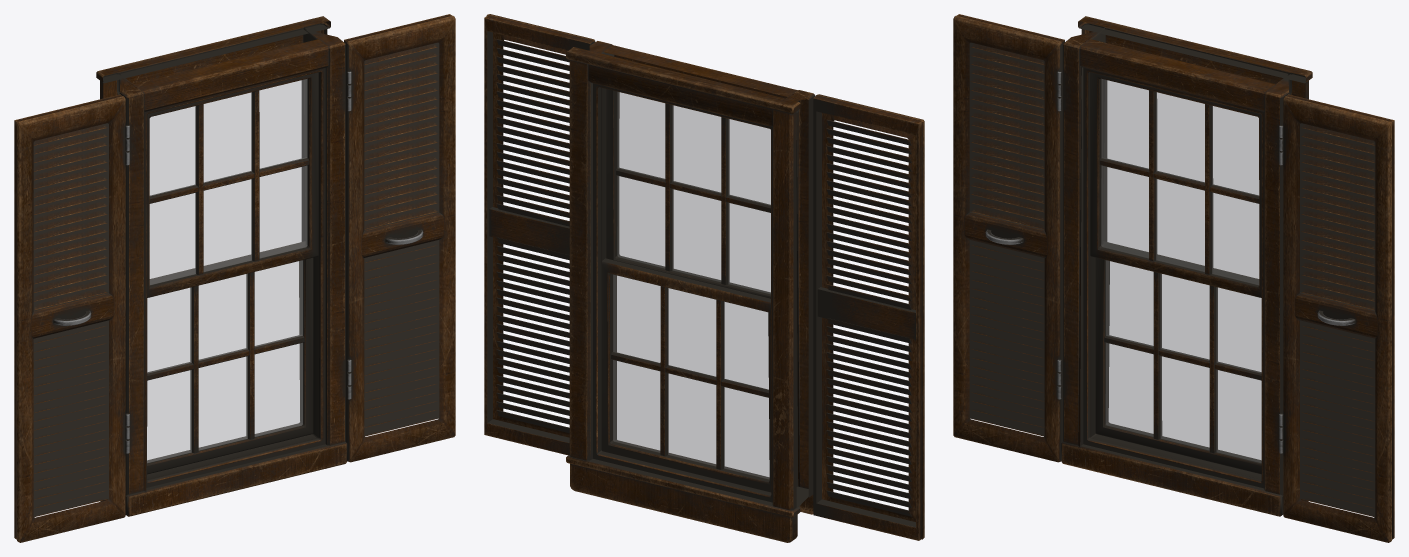
File: window__wodden_4_mb.glb
3 views of the same model, side by side, from view 1: azimuth 30°, elevation 25°; view 2: azimuth 150°, elevation 25°; view 3: azimuth 330°, elevation 25° (orthographic).
Parts seen in each view (by area): view 1: Null_1, Glass, Null, Null_1_2, House_07_1_LOD0_2_1, House_07_1_LOD0_0_2, House_07_1_LOD0_6_2, House_07_1_LOD0_12_2, House_07_1_LOD0_7_1, House_07_1_LOD0_8_1, House_07_1_LOD0_13_1, House_07_1_LOD0_14_1 (+70 smaller); view 2: Null_1, Glass, Null, Null_1_2, House_07_1_LOD0_0, House_07_1_LOD0_2, House_07_1_LOD0_5, House_07_1_LOD0_6, House_07_1_LOD0_9, House_07_1_LOD0_10_2, House_07_1_LOD0_13_2, House_07_1_LOD0_15_2 (+31 smaller); view 3: Null_1, Glass, Null_1_2, Null, House_07_1_LOD0_0_1_2, House_07_1_LOD0_6_1_2, House_07_1_LOD0_12_1_2, House_07_1_LOD0_2, House_07_1_LOD0_2_1, House_07_1_LOD0_10_1, House_07_1_LOD0_16_1, House_07_1_LOD0_7 (+70 smaller).
Part boxes in pixels (x1,y1,x2,y2): Null_1: (96, 16, 347, 516); Glass: (147, 79, 307, 462); Null: (14, 94, 125, 542); Null_1_2: (344, 14, 455, 462); House_07_1_LOD0_2_1: (364, 392, 439, 419); House_07_1_LOD0_0_2: (33, 283, 108, 310); House_07_1_LOD0_6_2: (33, 231, 108, 258); House_07_1_LOD0_12_2: (33, 179, 108, 206); House_07_1_LOD0_7_1: (364, 349, 439, 375); House_07_1_LOD0_8_1: (364, 340, 439, 367); House_07_1_LOD0_13_1: (364, 297, 439, 323); House_07_1_LOD0_14_1: (364, 288, 439, 315); Null_1: (566, 41, 815, 542); Glass: (613, 92, 770, 479); Null: (813, 94, 924, 540); Null_1_2: (484, 14, 595, 455); House_07_1_LOD0_0: (826, 490, 911, 516); House_07_1_LOD0_2: (826, 473, 911, 499); House_07_1_LOD0_5: (826, 447, 911, 473); House_07_1_LOD0_6: (826, 438, 911, 464); House_07_1_LOD0_9: (826, 412, 911, 438); House_07_1_LOD0_10_2: (826, 197, 911, 223); House_07_1_LOD0_13_2: (826, 171, 911, 197); House_07_1_LOD0_15_2: (826, 154, 911, 180); Null_1: (1061, 16, 1312, 516); Glass: (1101, 79, 1261, 462); Null_1_2: (1283, 94, 1394, 542); Null: (953, 14, 1064, 462); House_07_1_LOD0_0_1_2: (1300, 283, 1375, 310); House_07_1_LOD0_6_1_2: (1300, 231, 1375, 258); House_07_1_LOD0_12_1_2: (1300, 179, 1375, 206); House_07_1_LOD0_2: (969, 392, 1044, 419); House_07_1_LOD0_2_1: (1300, 473, 1375, 499); House_07_1_LOD0_10_1: (1300, 404, 1375, 430); House_07_1_LOD0_16_1: (1300, 352, 1375, 378); House_07_1_LOD0_7: (969, 349, 1044, 375).
Bounding box in the file's own units: 1.59 × 1.52 × 0.221.
3 materials, 2 textured.
